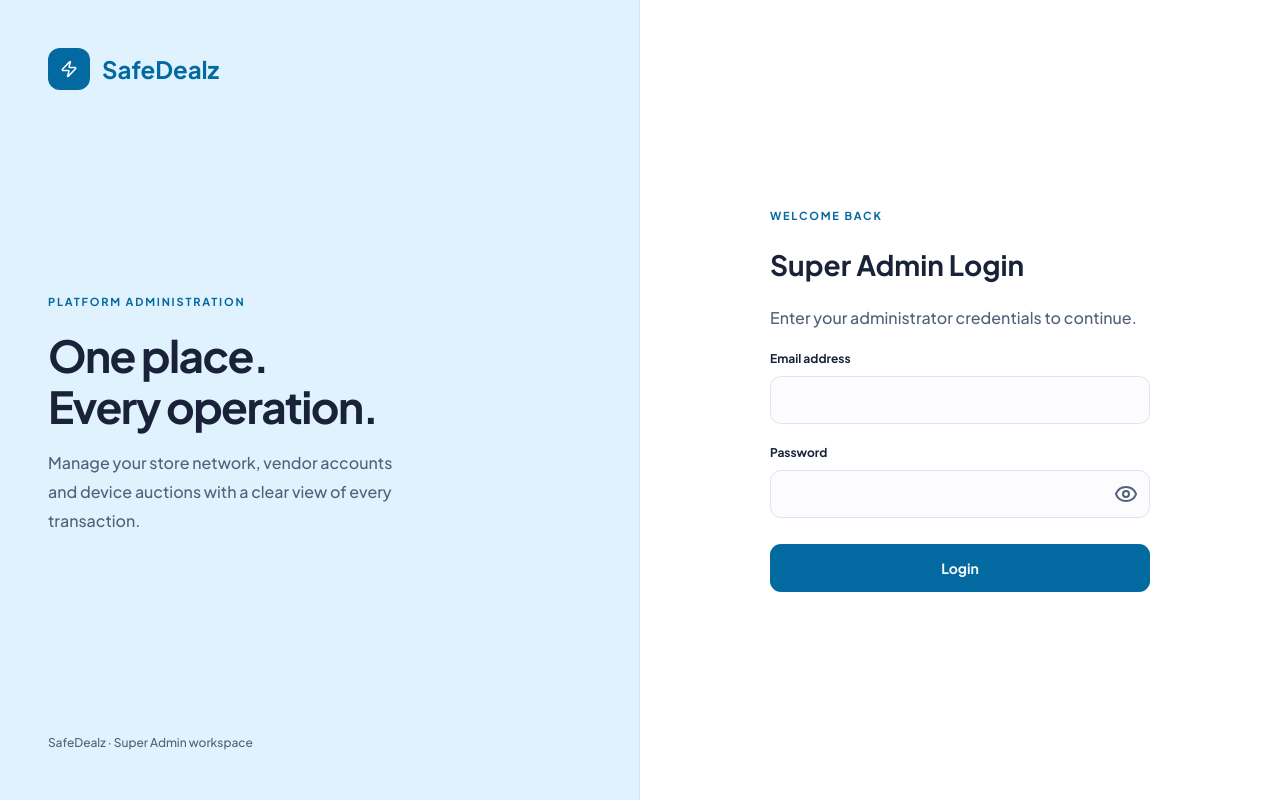
Scenario: login stays on Overview even when home immediately refreshes the session
Type "root@test.dev" into the field labelled "Email address". click: (960, 400)
box: left=770, top=376, right=1150, bottom=424
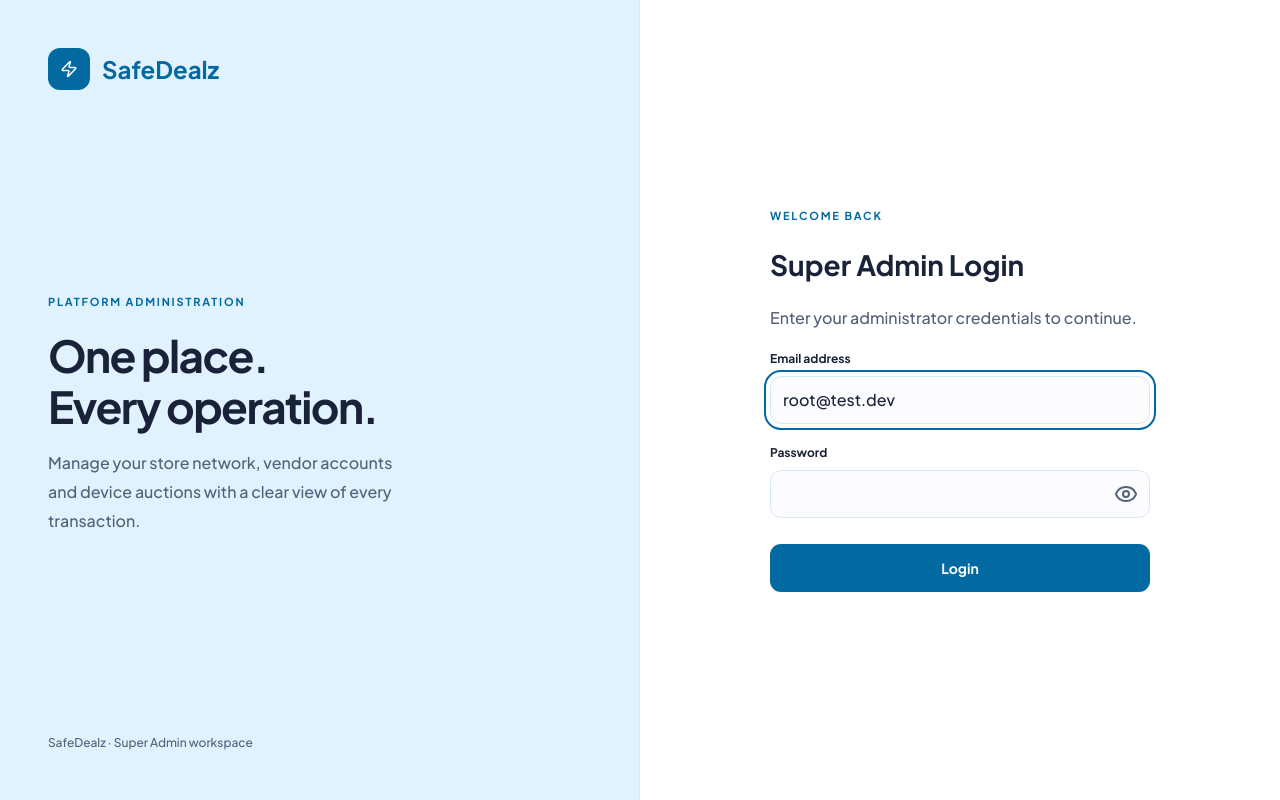
Type "1234567890" into the password field labelled "Password". click: (960, 494)
box: left=770, top=470, right=1150, bottom=518
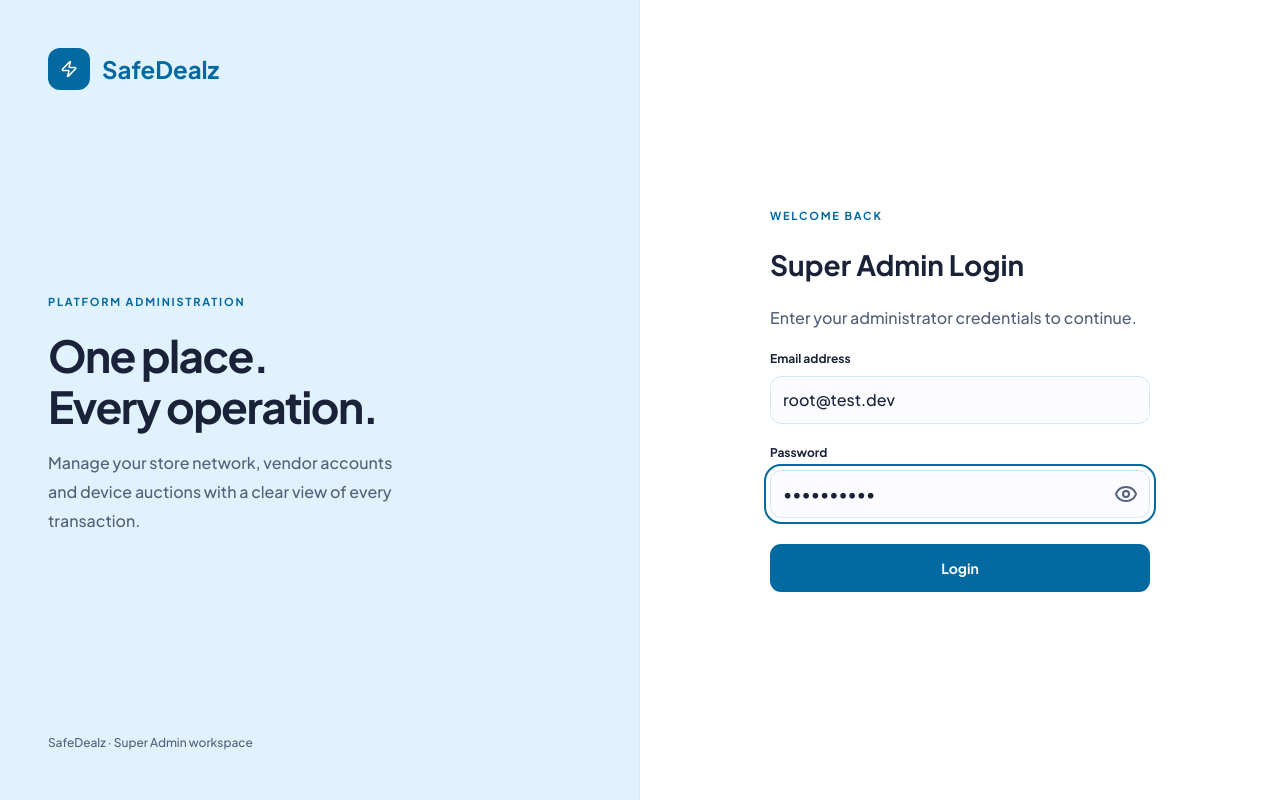
Click the button "Login". click: (960, 568)
box: left=770, top=544, right=1150, bottom=592
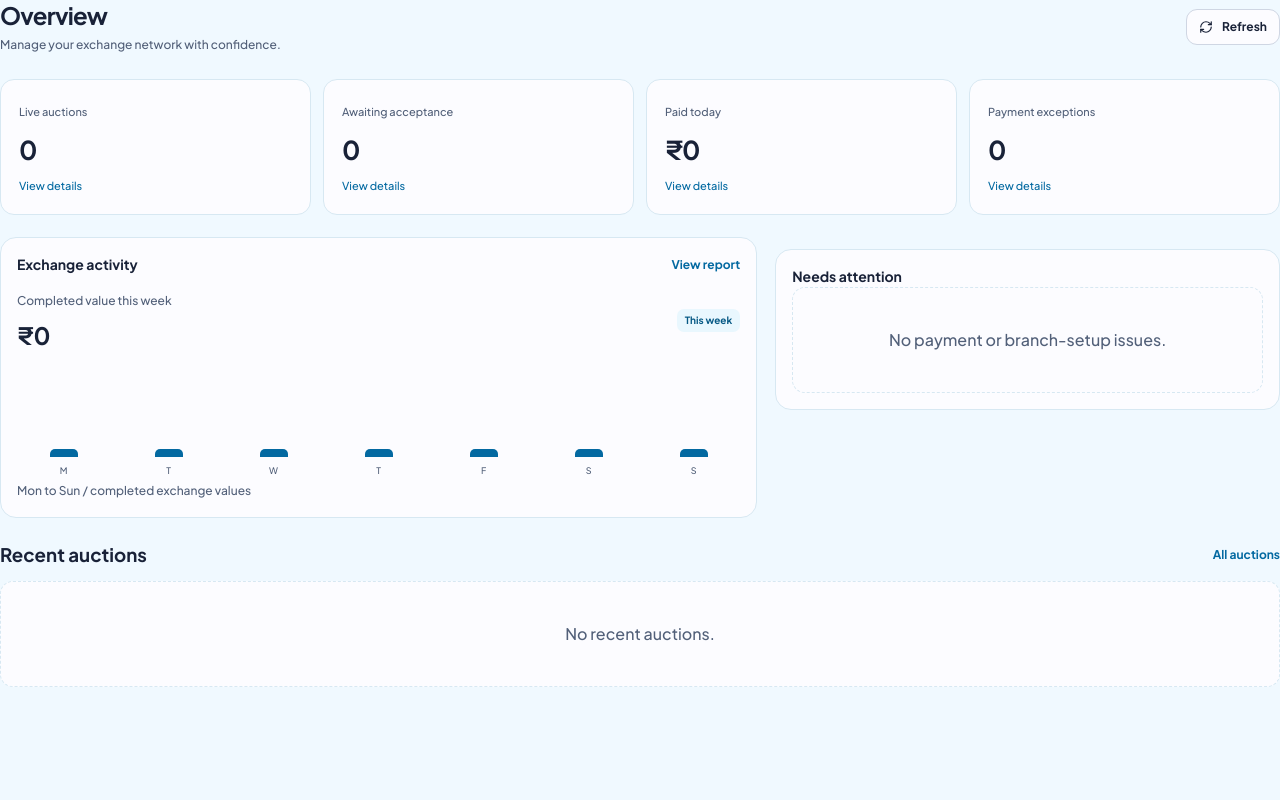
Expected: the heading "Overview" is shown, left=0, top=0, right=107, bottom=30
Expected: the heading "Super Admin Login" is gone
